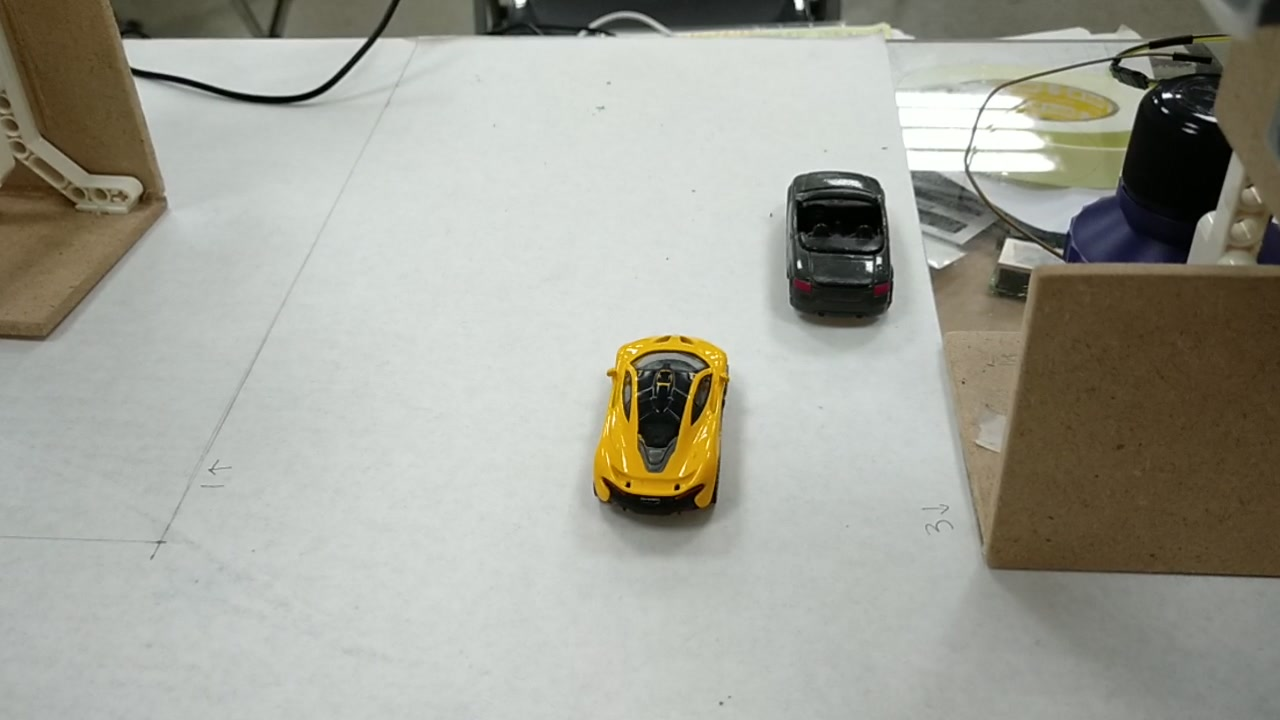car: (596, 339, 742, 508), (788, 171, 889, 312)
